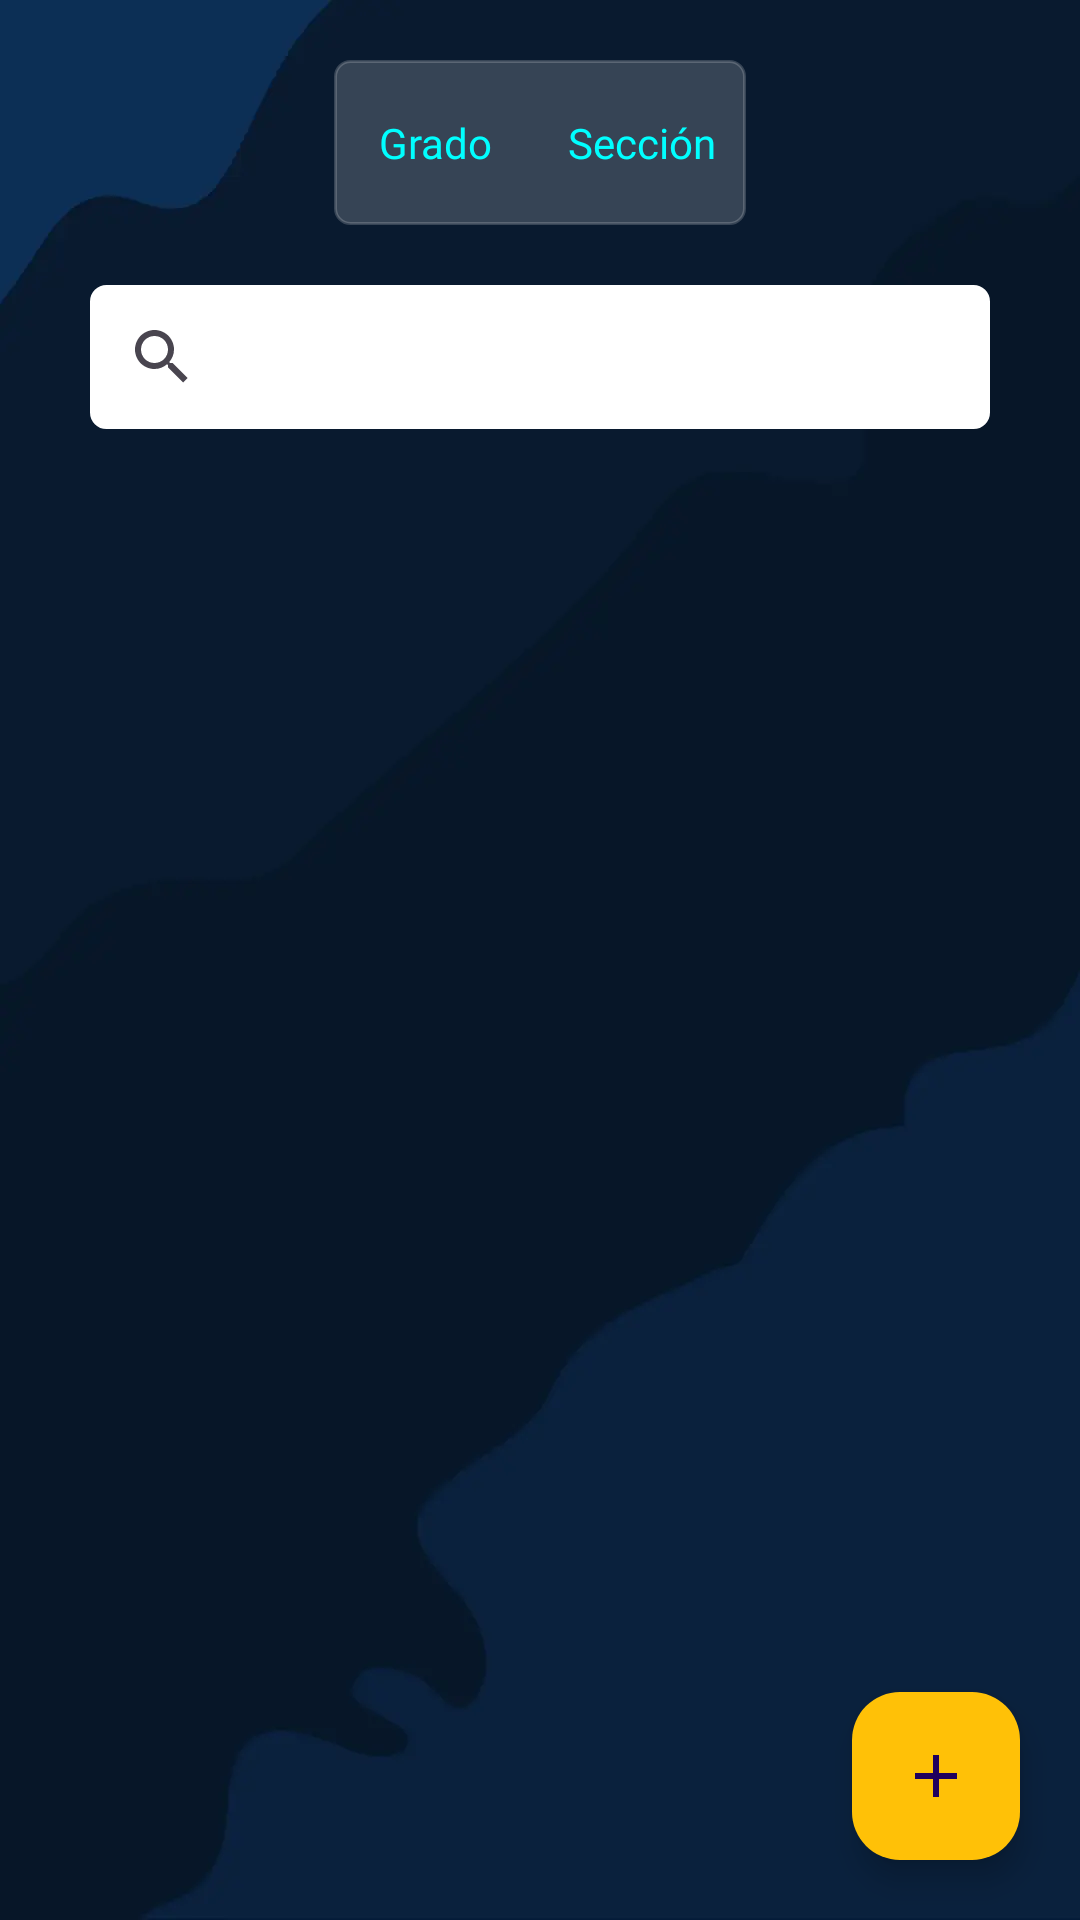

Icon bounding boxes for this 1080 x 1920 phone screenshot, format rect(x1, y1, x2, y2):
add student: rect(852, 1692, 1020, 1860)
